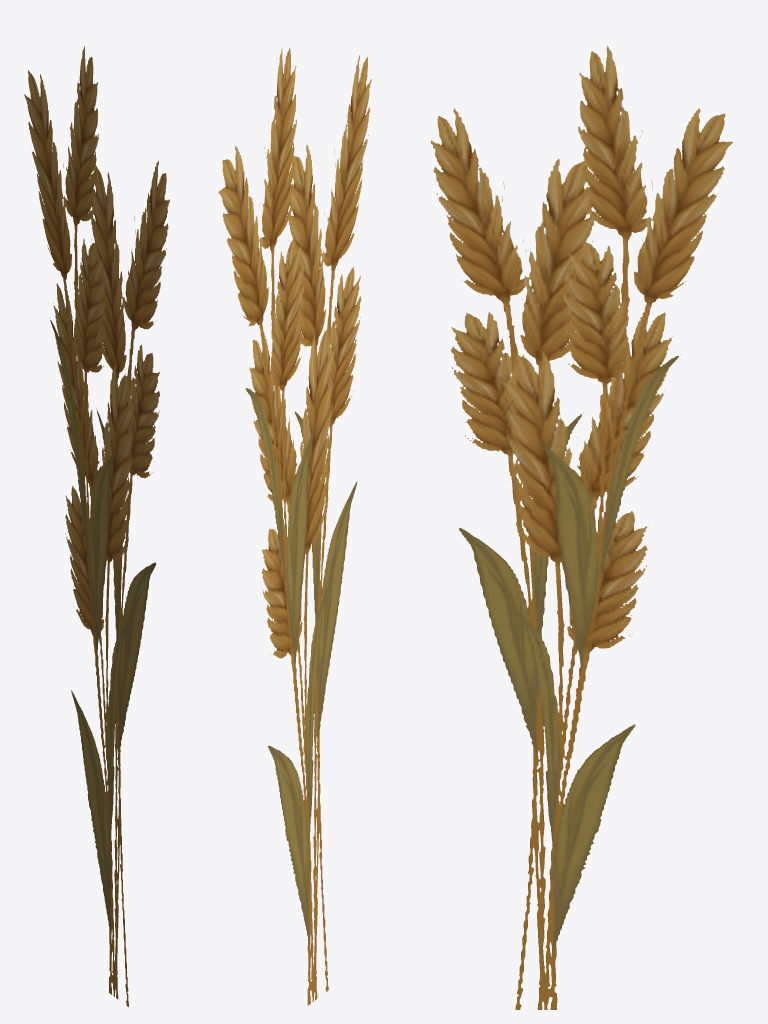
The model's file is WheatCrop_small.fbx.
3 views of the same model, side by side, from view 1: azimuth 30°, elevation 25°; view 2: azimuth 150°, elevation 25°; view 3: azimuth 270°, elevation 25° (orthographic). The views are drawn at different scales.
Parts seen in each view (by area): view 1: WheatCrop_small; view 2: WheatCrop_small; view 3: WheatCrop_small.
Boxes of the visible parts, box(x1,y1,x2,y2) form: WheatCrop_small: box(24, 46, 169, 1006); WheatCrop_small: box(218, 48, 371, 1005); WheatCrop_small: box(430, 45, 732, 1009).
Size of the model in its own units: 8.26e-19 by 0.7041 by 0.2201.
